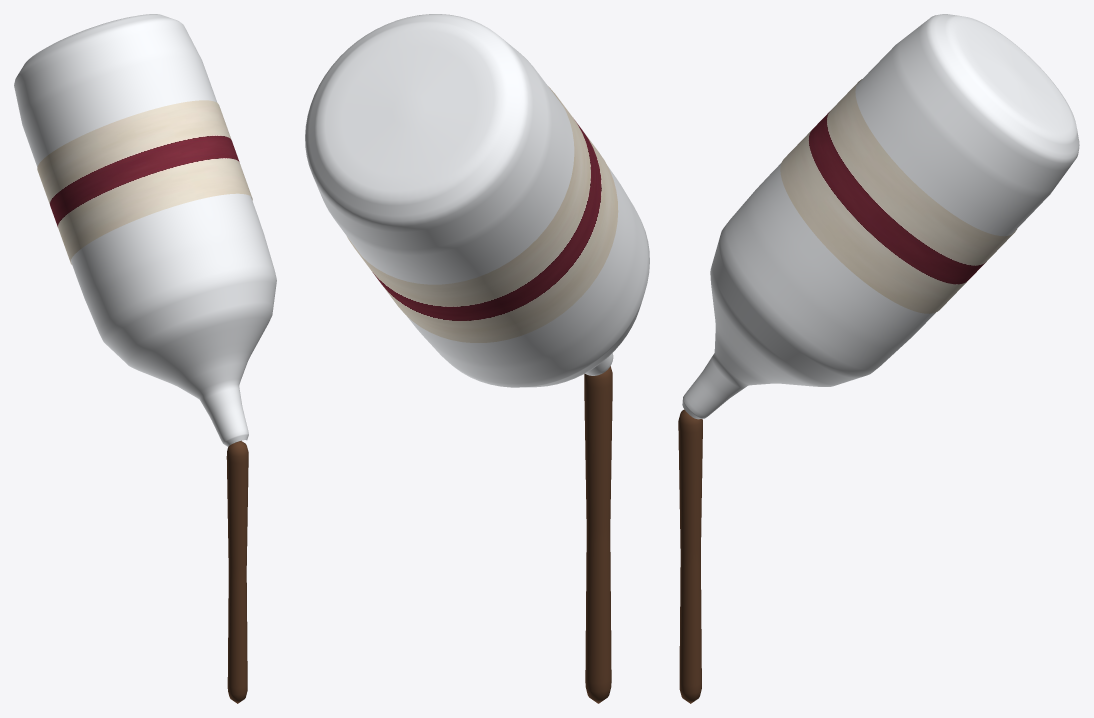
The model's file is _frasco_calda_chocolate.glb.
The picture shows the model from 3 angles, left to right: view 1: azimuth 30°, elevation 25°; view 2: azimuth 150°, elevation 25°; view 3: azimuth 270°, elevation 25°; orthographic projection. The views are drawn at different scales.
Parts seen in each view (by area): view 1: _frasco_calda_chocolate_0, _frasco_calda_chocolate_1; view 2: _frasco_calda_chocolate_0, _frasco_calda_chocolate_1; view 3: _frasco_calda_chocolate_0, _frasco_calda_chocolate_1.
Part boxes in pixels (box(x1,y1,x2,y2)): _frasco_calda_chocolate_0: box(14, 14, 276, 446); _frasco_calda_chocolate_1: box(226, 441, 248, 703); _frasco_calda_chocolate_0: box(305, 14, 649, 387); _frasco_calda_chocolate_1: box(584, 366, 612, 703); _frasco_calda_chocolate_0: box(682, 14, 1079, 419); _frasco_calda_chocolate_1: box(678, 409, 702, 703).
Size of the model in its own units: 0.686 by 2.36 by 1.27.
Materials: 3 (1 with a texture image).
